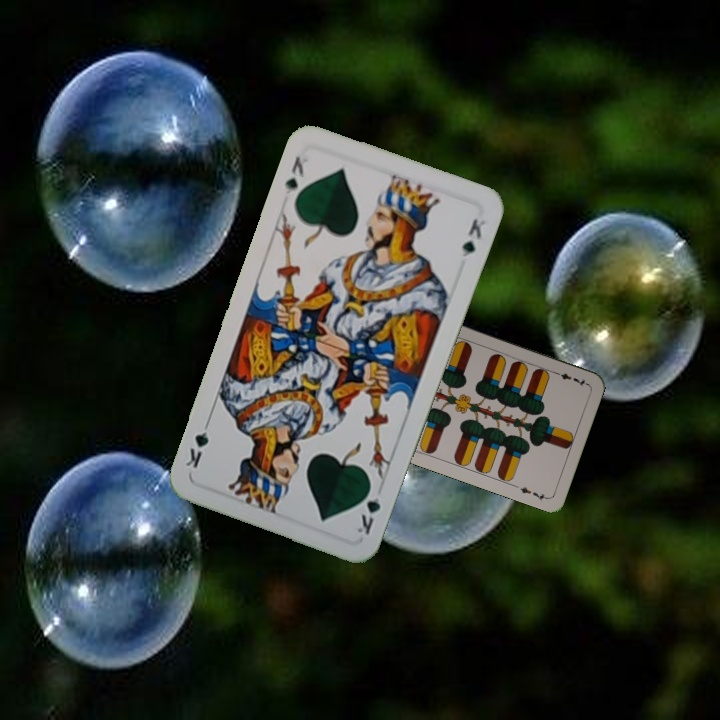E7: (550, 368, 589, 389)
GK: (353, 480, 383, 538), (281, 152, 311, 198)
